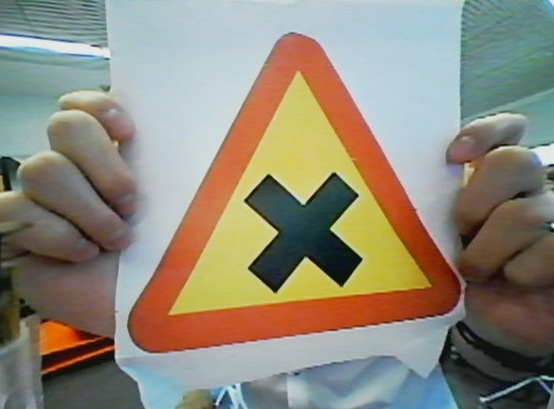junction: (117, 19, 476, 360)
